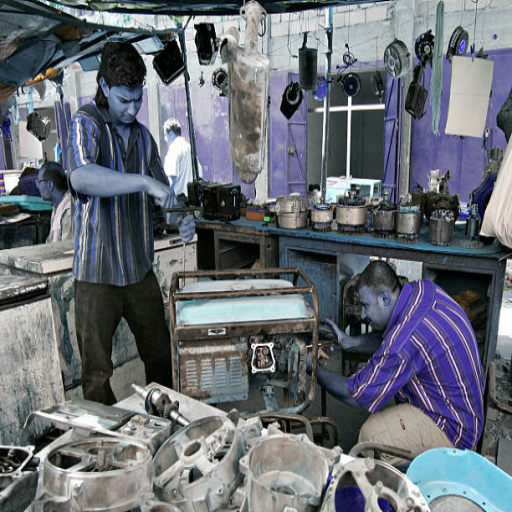portable_generator: (169, 267, 321, 418)
